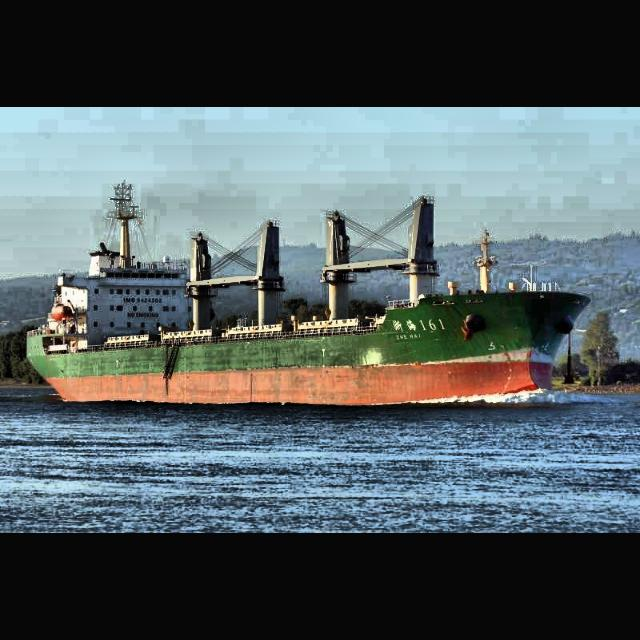bulk_carrier: (25, 180, 593, 410)
